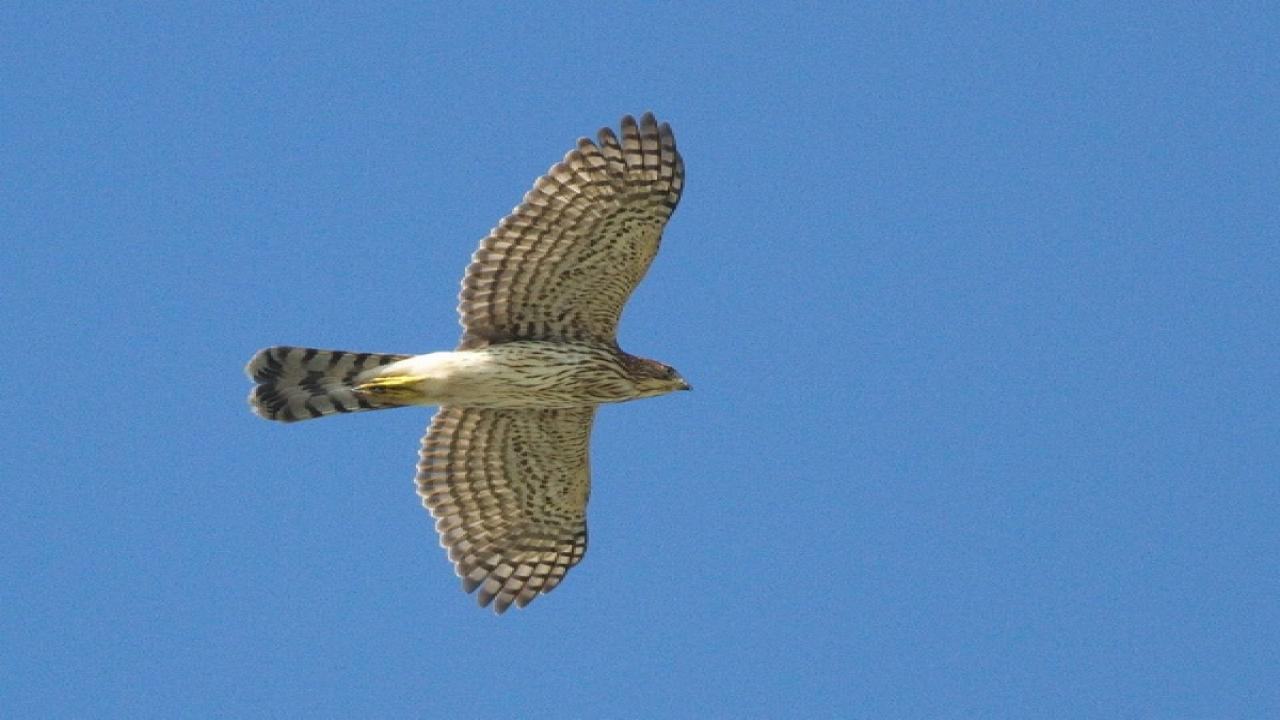Bird: (239, 103, 708, 620)
